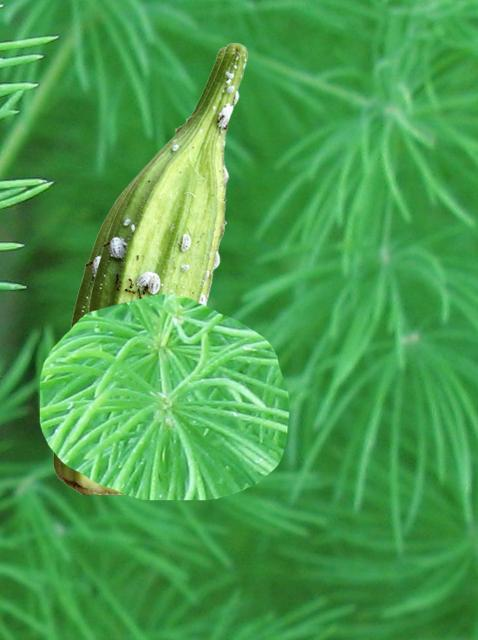okra: (53, 47, 224, 493), (86, 43, 247, 312)
